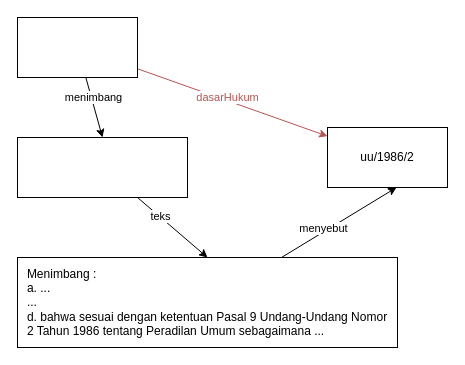
This 465x365 diagram has some shape labels left out. The shapes that lost their labels are listed below. From the top down, each one's centre as x and y in pixels, then its label:
At point 77,47: "uu/2004/11".
At point 102,167: "uu/2004/11/menimbang".
